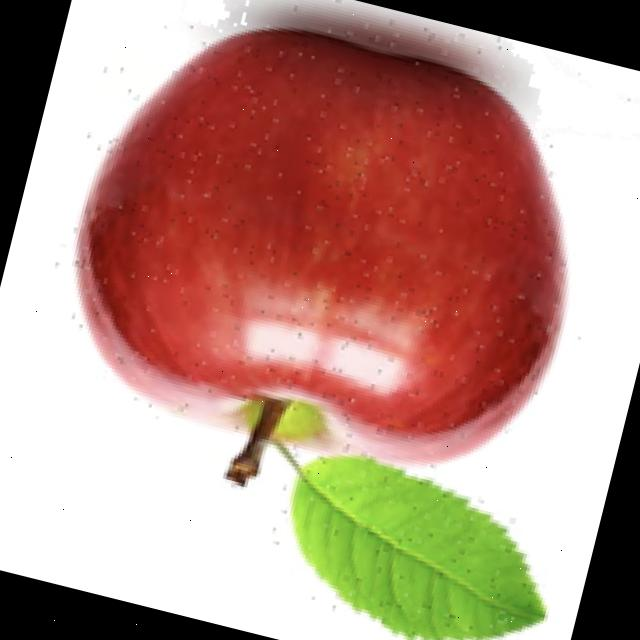apple: (63, 0, 573, 640)
